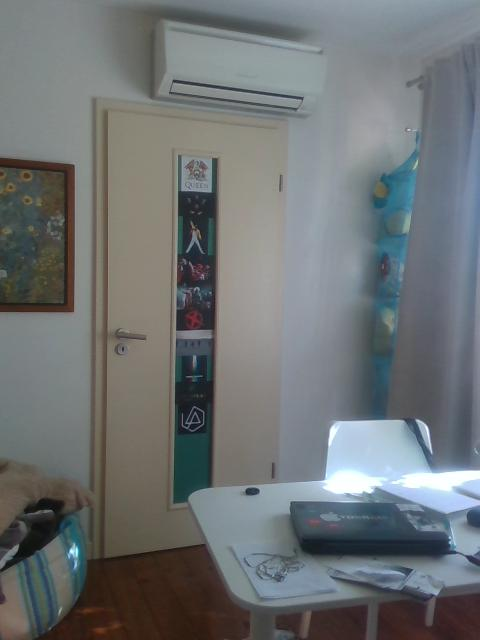closed_door: (93, 96, 287, 559)
